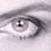eye: (12, 20, 28, 32)
